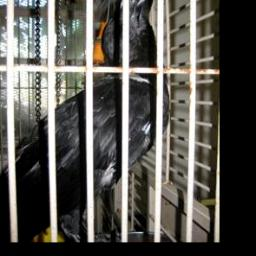Crow: (0, 0, 169, 241)
